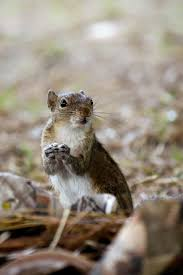Ardilla: (41, 84, 139, 218)
